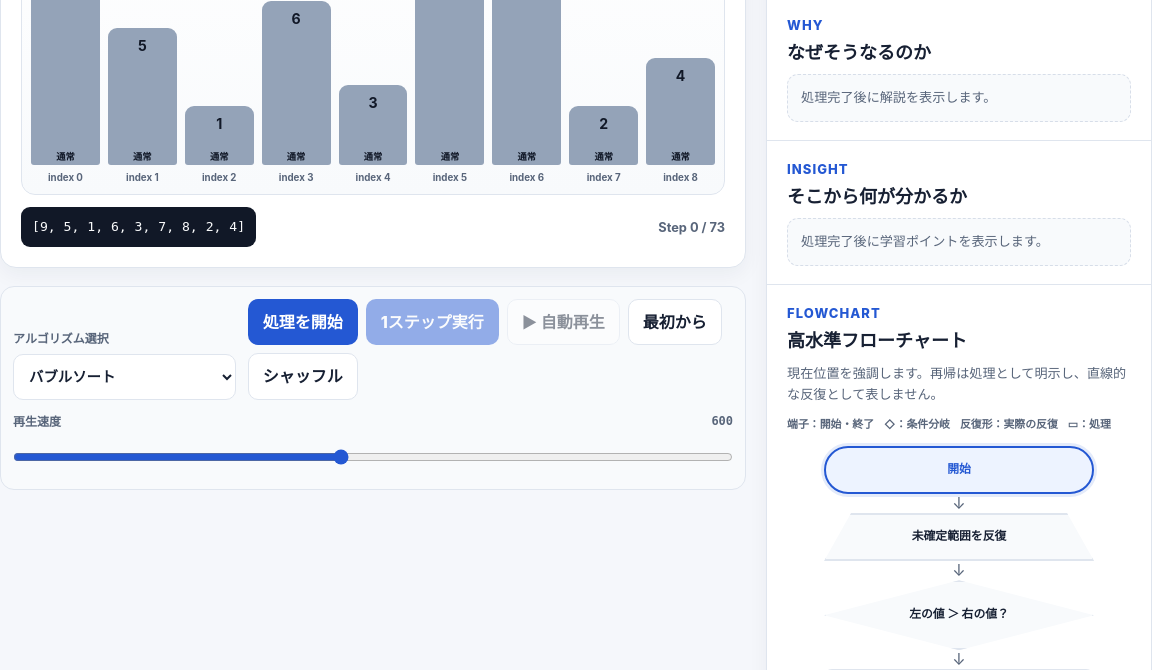
Scenario: SortMaterial › completes with auto-play and unlocks Result, Why, and Insight
The width and height of the screenshot is (1152, 670).
(page scrolled)
Click the button "処理を開始" at coordinates (303, 322), box [248,299,358,345]
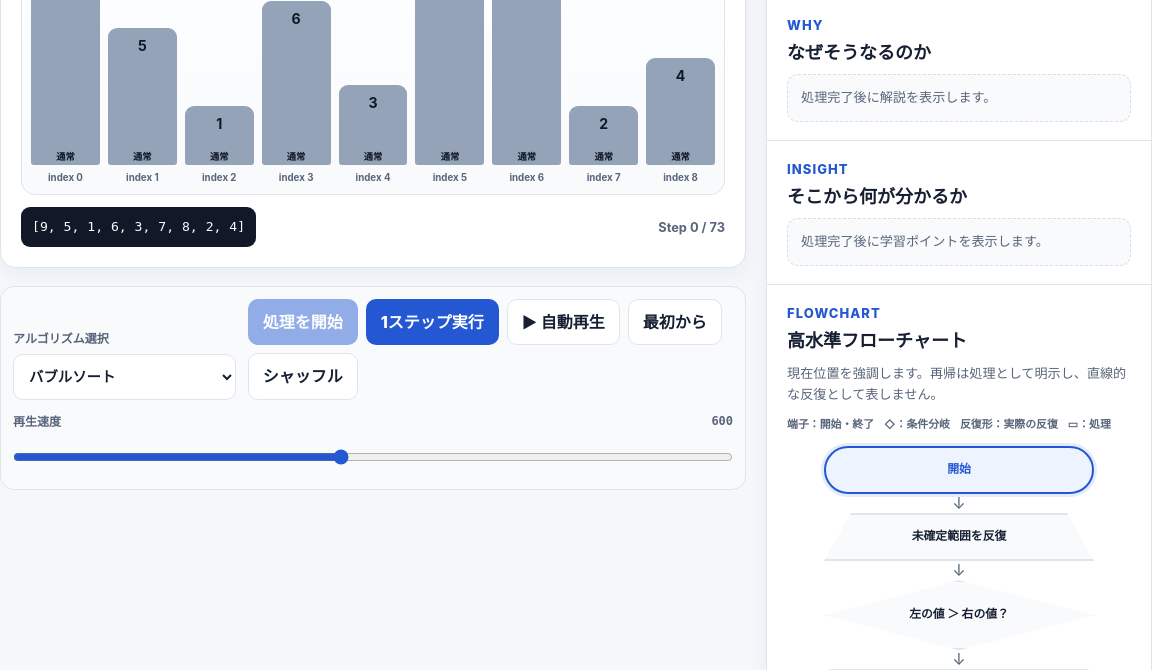
Click the button "▶ 自動再生" at coordinates (563, 322), box [507,299,620,345]
(page scrolled)
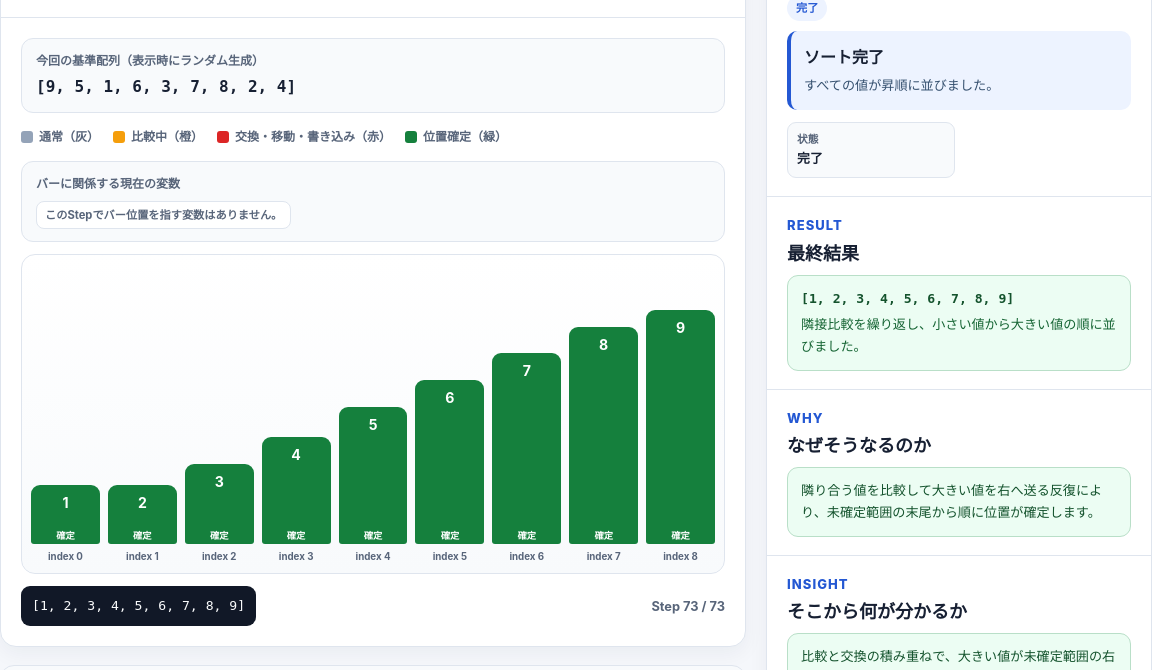
Result: the element with test id "final-result" shows "[1, 2, 3, 4, 5, 6, 7, 8, 9]" at [801,291,1014,306]
